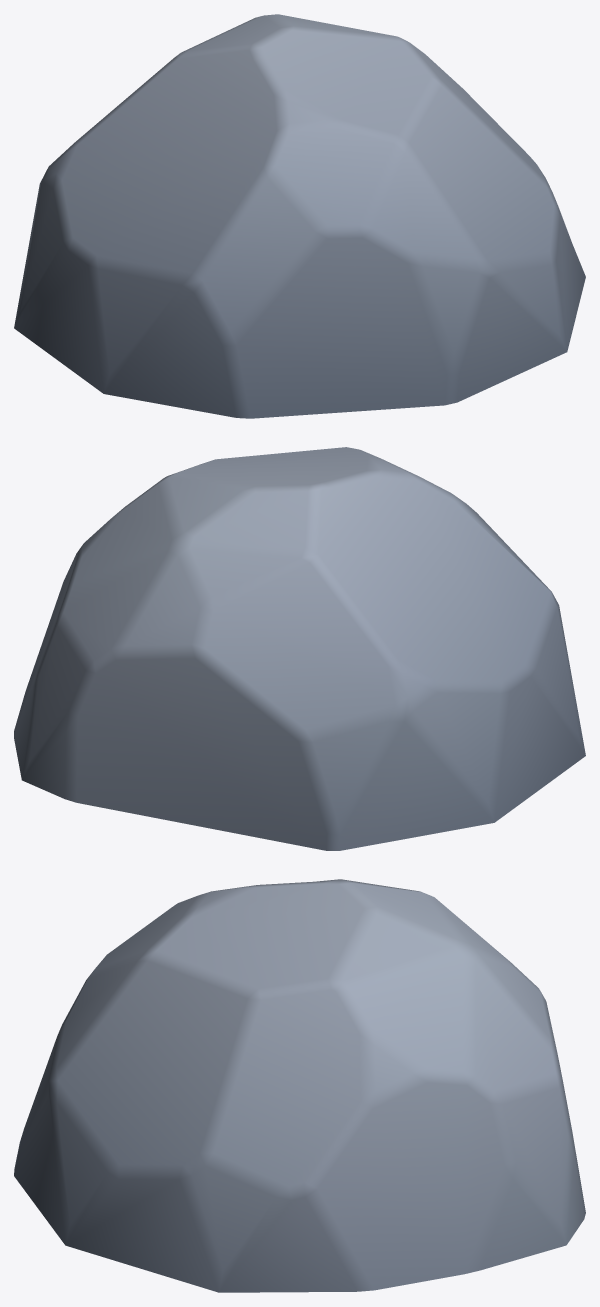
Rendered from Stone_05_lvl.fbx.
3 renders of one model, top to bottom at view 1: azimuth 30°, elevation 25°; view 2: azimuth 150°, elevation 25°; view 3: azimuth 270°, elevation 25°, orthographic. The views are drawn at different scales.
Parts seen in each view (by area): view 1: Icosphere.016; view 2: Icosphere.016; view 3: Icosphere.016.
Boxes of the visible parts, left/top/right/bottom form: Icosphere.016: left=14, top=14, right=585, bottom=418; Icosphere.016: left=14, top=447, right=585, bottom=850; Icosphere.016: left=14, top=879, right=585, bottom=1292.
Bounding box in the file's own units: 127 × 63.81 × 123.
